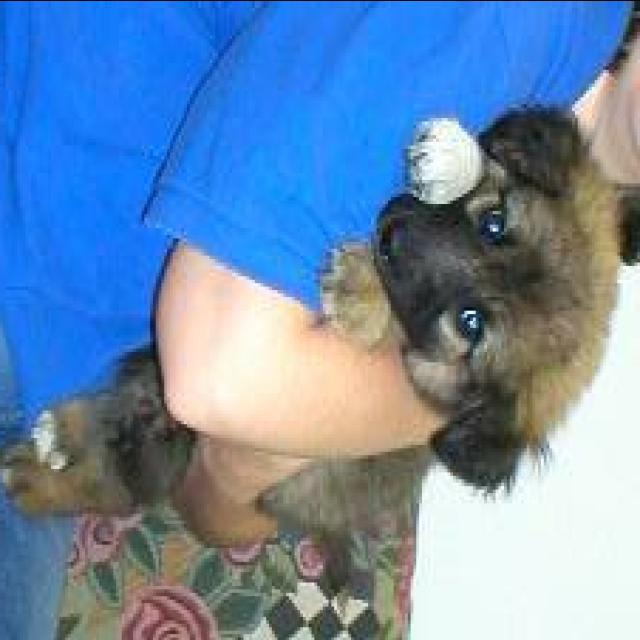dog: (0, 89, 634, 529)
